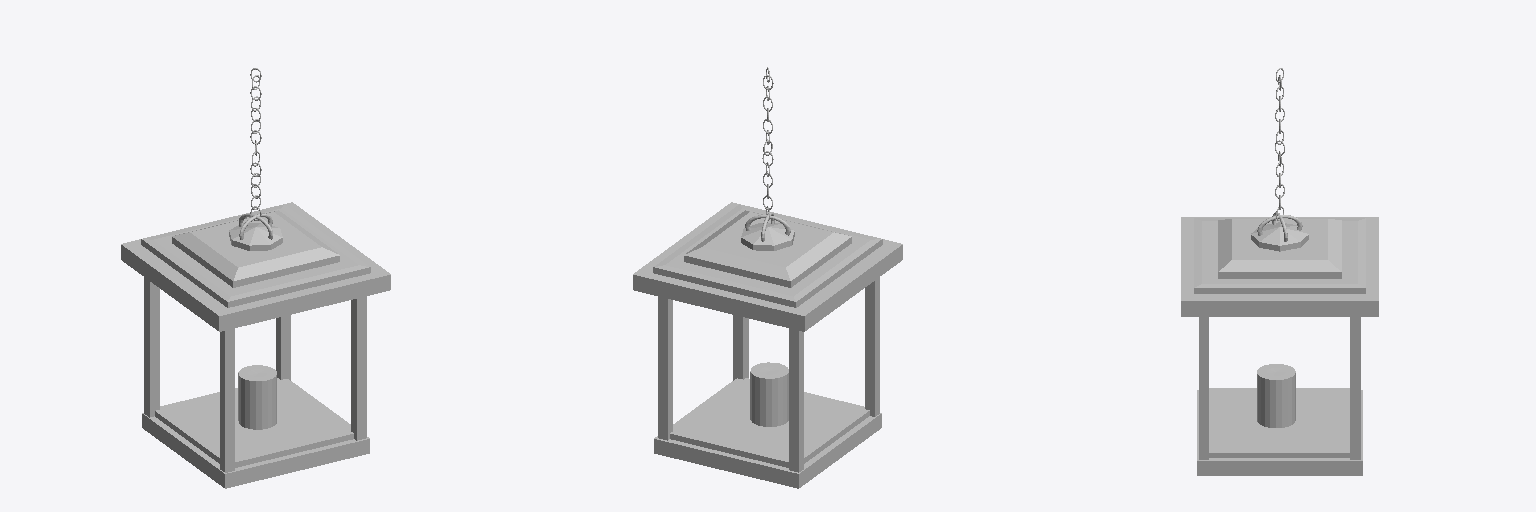
Rendered from LanternLamp.obj.
3 renders of one model, left to right at view 1: azimuth 30°, elevation 25°; view 2: azimuth 150°, elevation 25°; view 3: azimuth 270°, elevation 25°, orthographic.
Visible parts, largest first — view 1: LanternLamp; view 2: LanternLamp; view 3: LanternLamp.
Part boxes in pixels (bbox=[...]): LanternLamp: bbox=[121, 68, 390, 488]; LanternLamp: bbox=[633, 67, 902, 488]; LanternLamp: bbox=[1181, 68, 1378, 475].
Bounding box in the file's own units: 1.3 × 2.73 × 1.3.